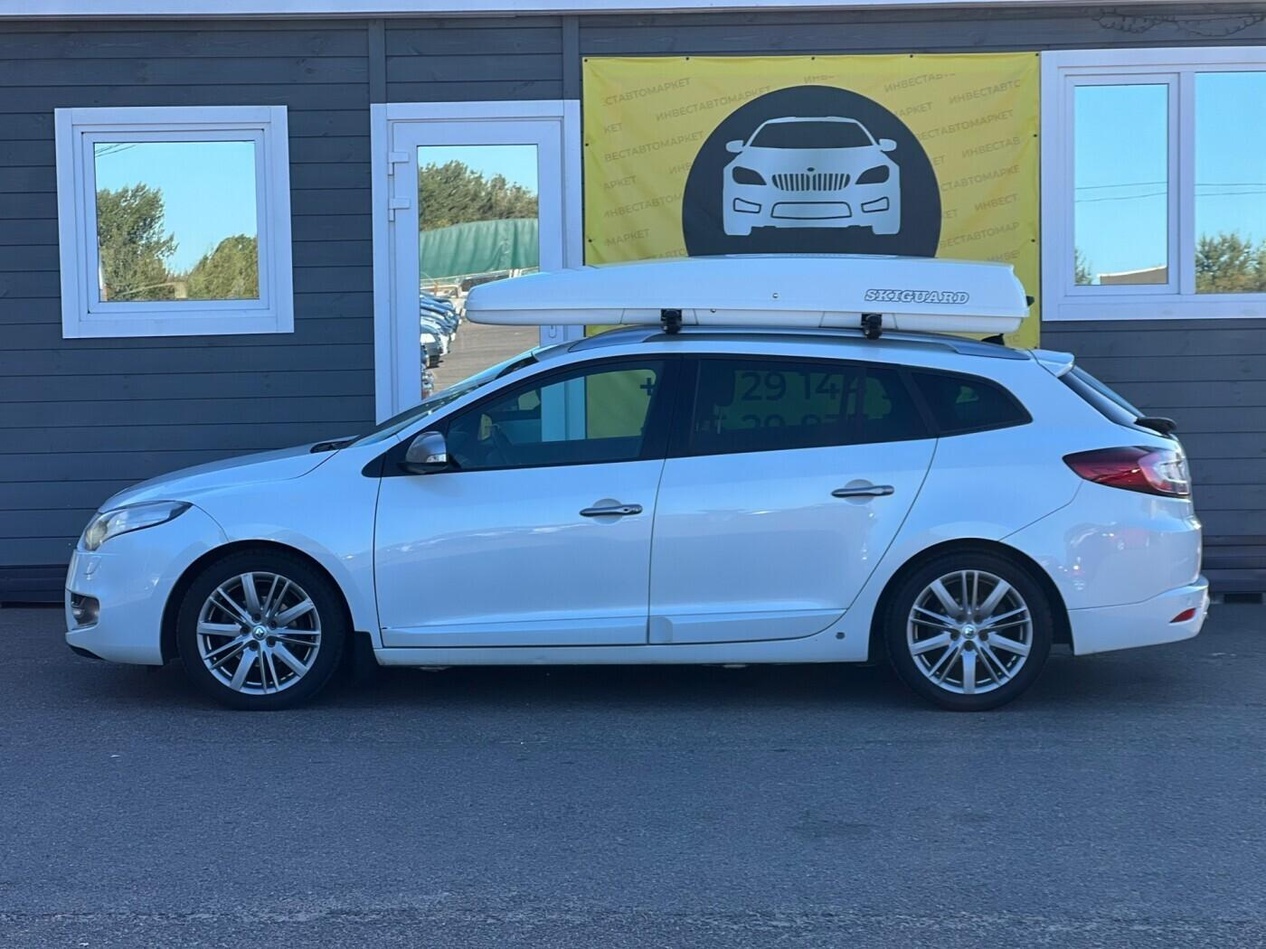Megane_2012-2014: (57, 325, 1217, 726)
